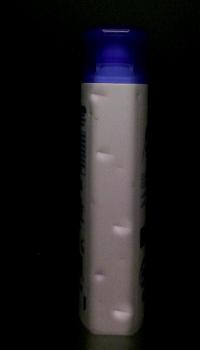dent_unacceptable: (108, 220, 142, 244), (96, 133, 119, 167), (91, 258, 112, 294), (111, 306, 137, 326), (90, 83, 107, 106)
